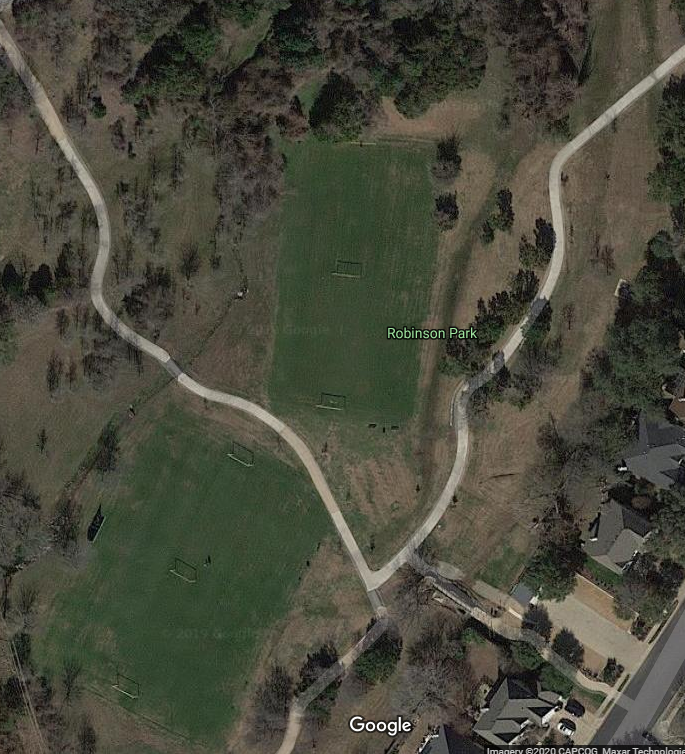soccer: (282, 140, 431, 419)
